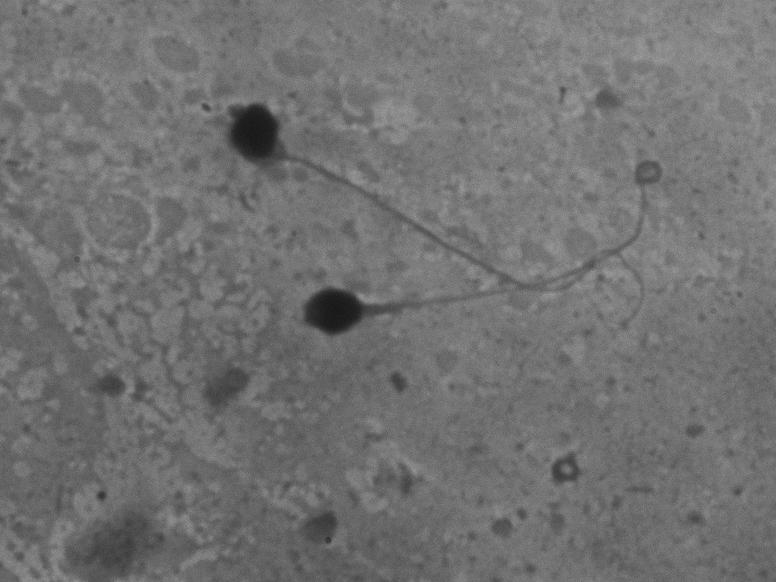Abnormal: (209, 89, 695, 308), (222, 246, 662, 365)
